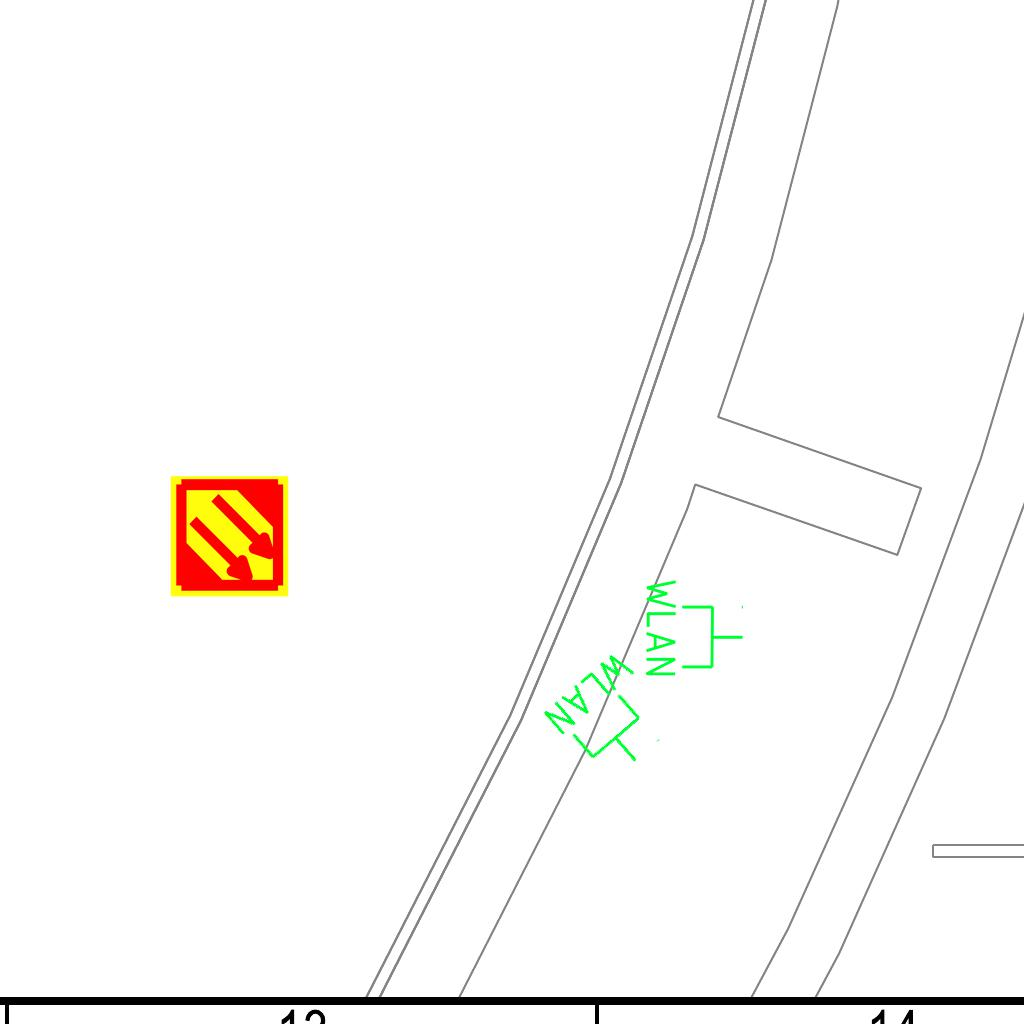ASR_Ansaugrauchmelder: (167, 474, 292, 599)
WLAN: (537, 643, 685, 792), (642, 575, 746, 680)
